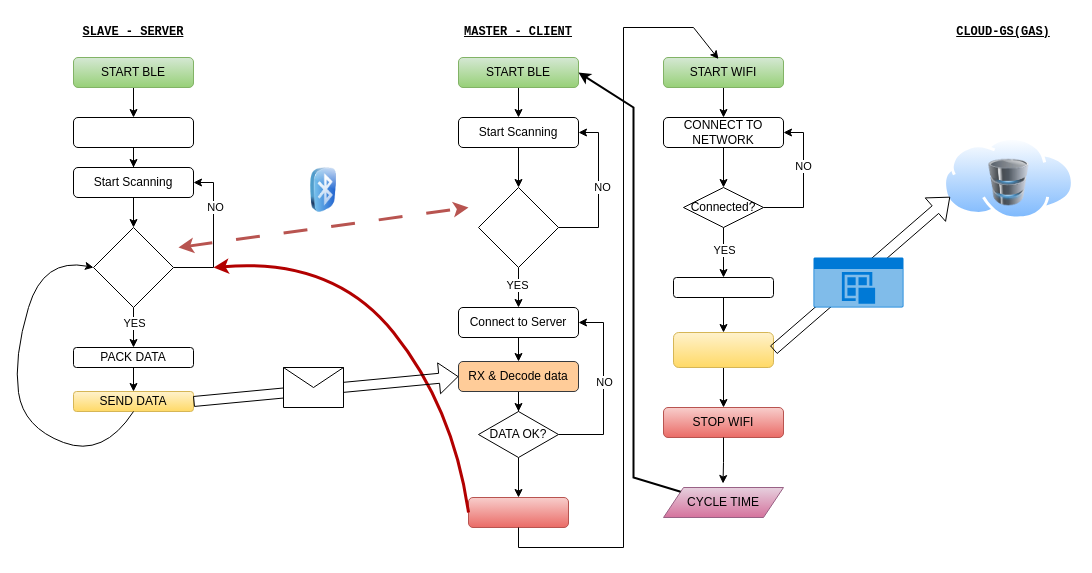
The diagram is 1092 pixels wide and 573 high, and some of its shapes have lost their labels. Here are the shapes that lost their labels. From the top down, the box of each, then its label:
(72, 116, 194, 148): Start Advertise
(478, 186, 558, 268): Server found?
(92, 226, 174, 308): Client connected?
(672, 276, 774, 298): MAKE JSON
(813, 257, 903, 307): Post
(672, 332, 774, 368): MAKE POST REQUEST
(468, 496, 568, 528): STOP BLE
